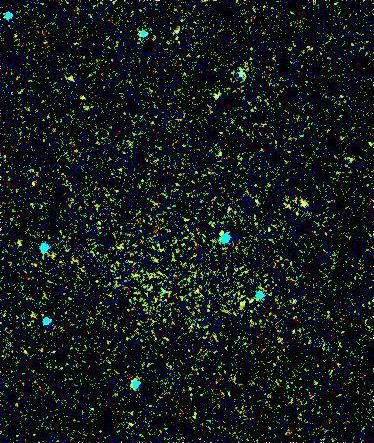star: (227, 291, 257, 321)
